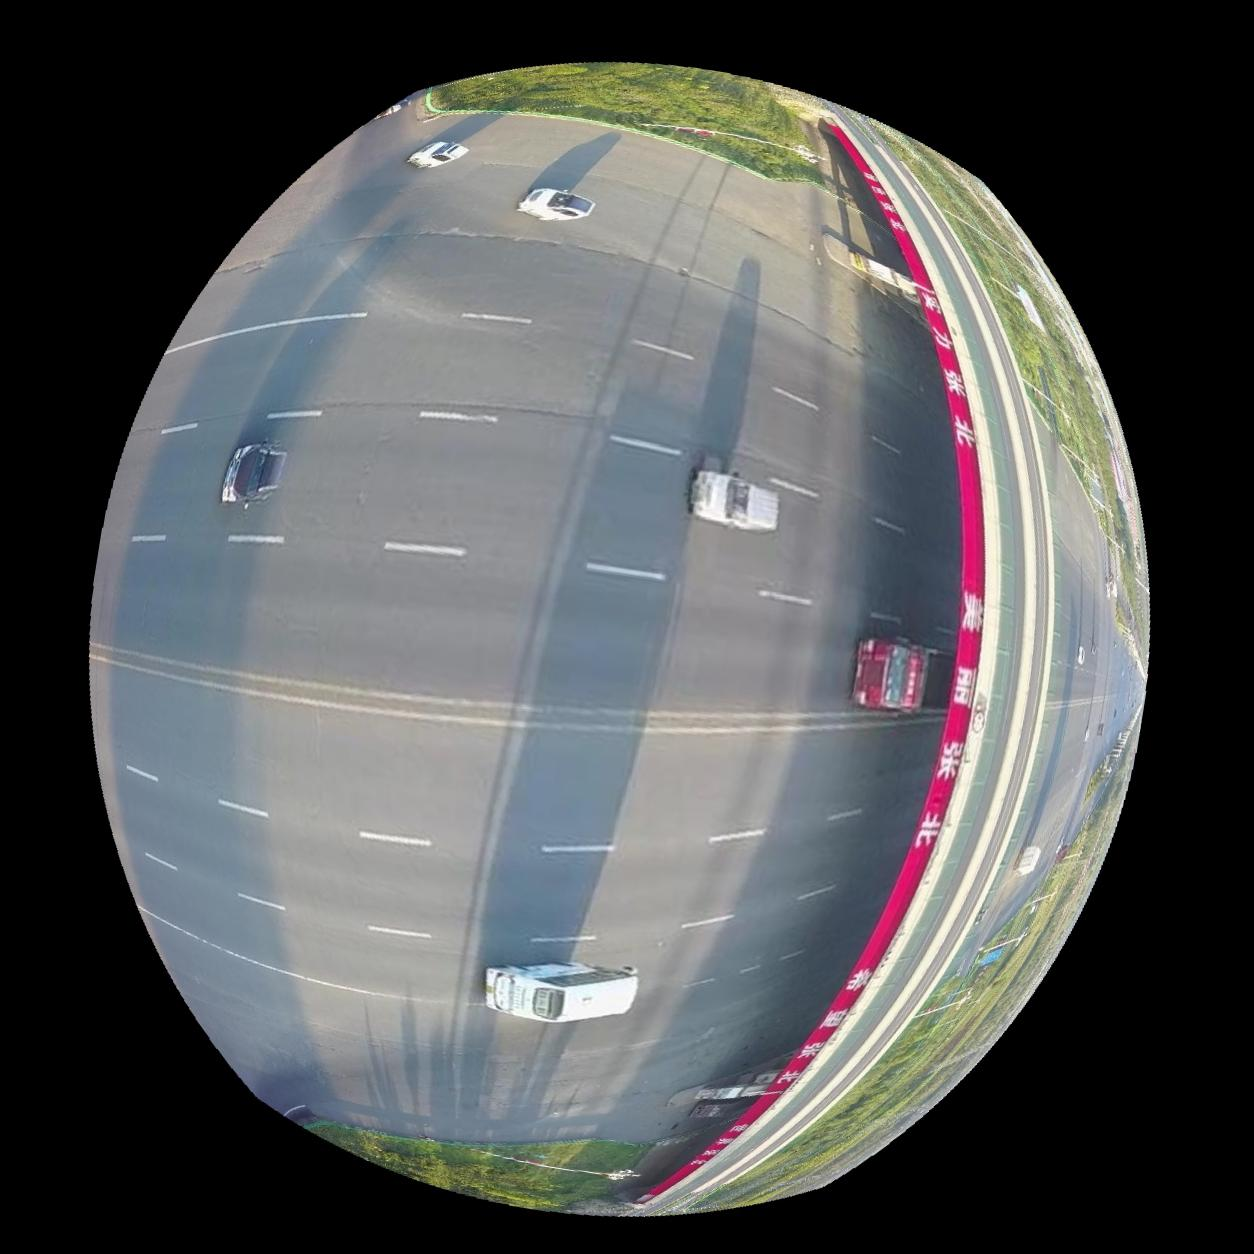cars: (483, 962, 637, 1025), (689, 470, 779, 531), (217, 442, 285, 506), (516, 186, 594, 219), (404, 140, 466, 167)
